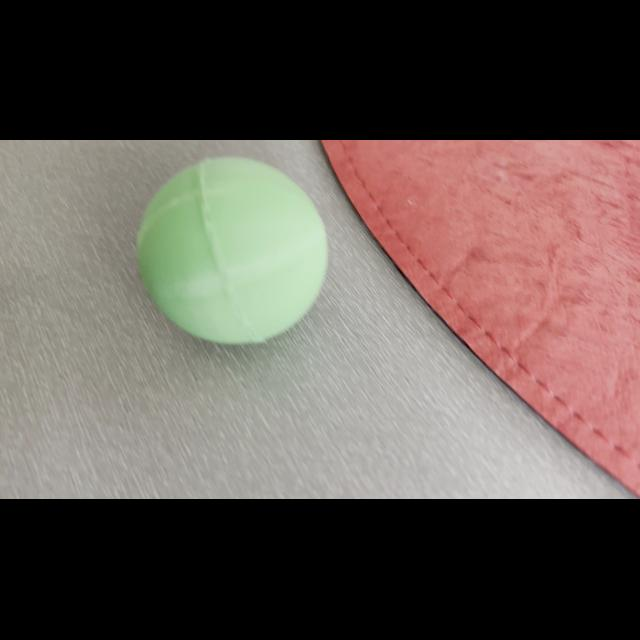objects: (121, 143, 337, 360)
